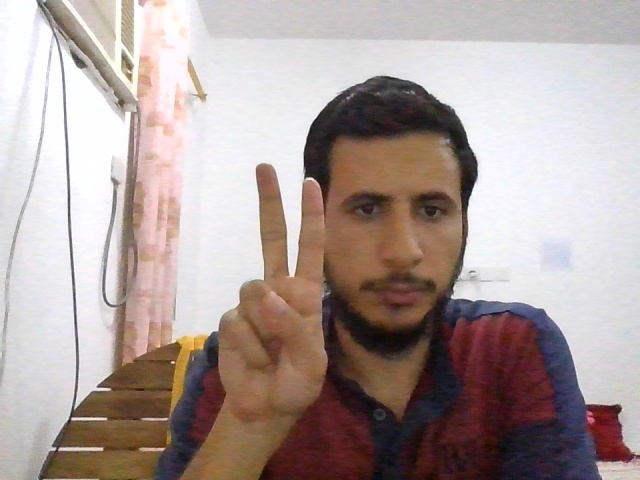Two: (217, 163, 328, 416)
